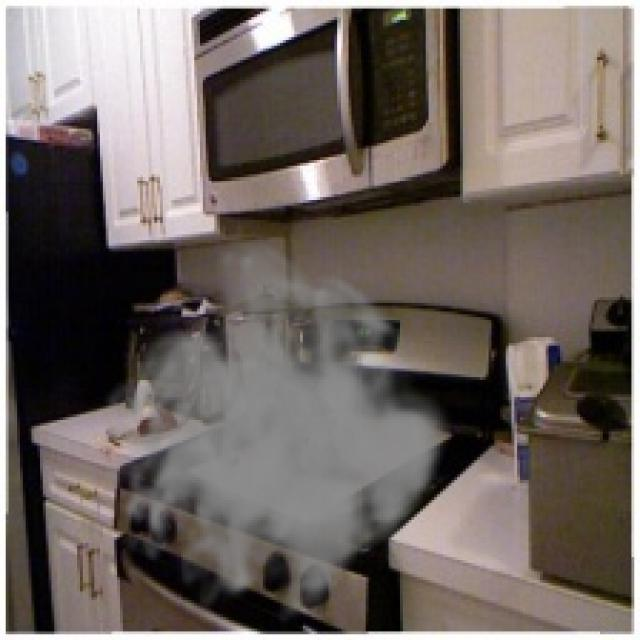smoke: (103, 235, 451, 634)
